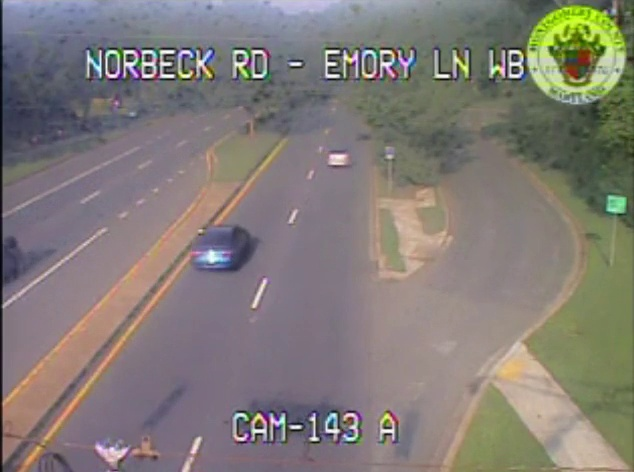car: (189, 227, 247, 270), (327, 149, 352, 168)
